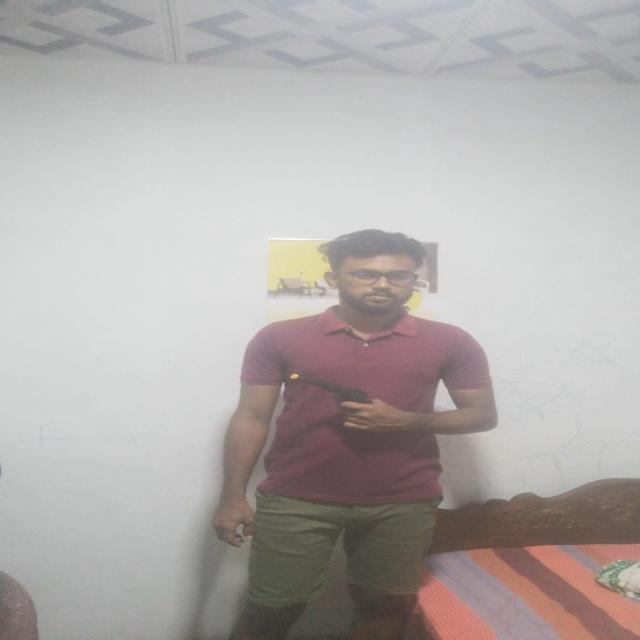Gun_Holder: (289, 367, 410, 428)
Person: (201, 227, 502, 640)
